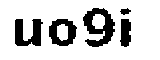9: (82, 6, 115, 48)
i: (118, 6, 135, 49)
o: (45, 17, 77, 49)
u: (11, 16, 43, 50)
